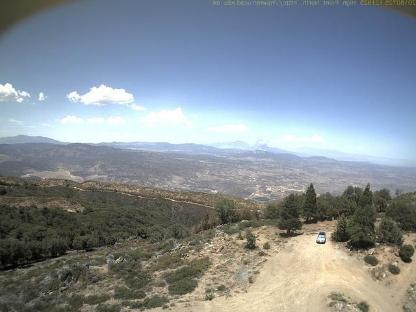smoke: (246, 141, 270, 155)
